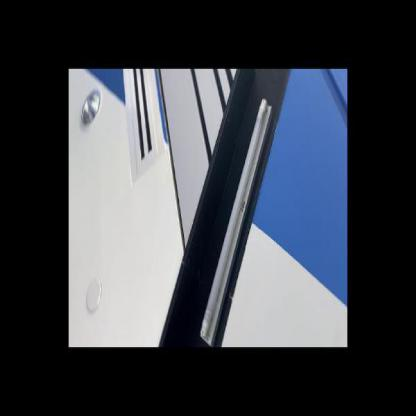light_off: (194, 93, 278, 348)
